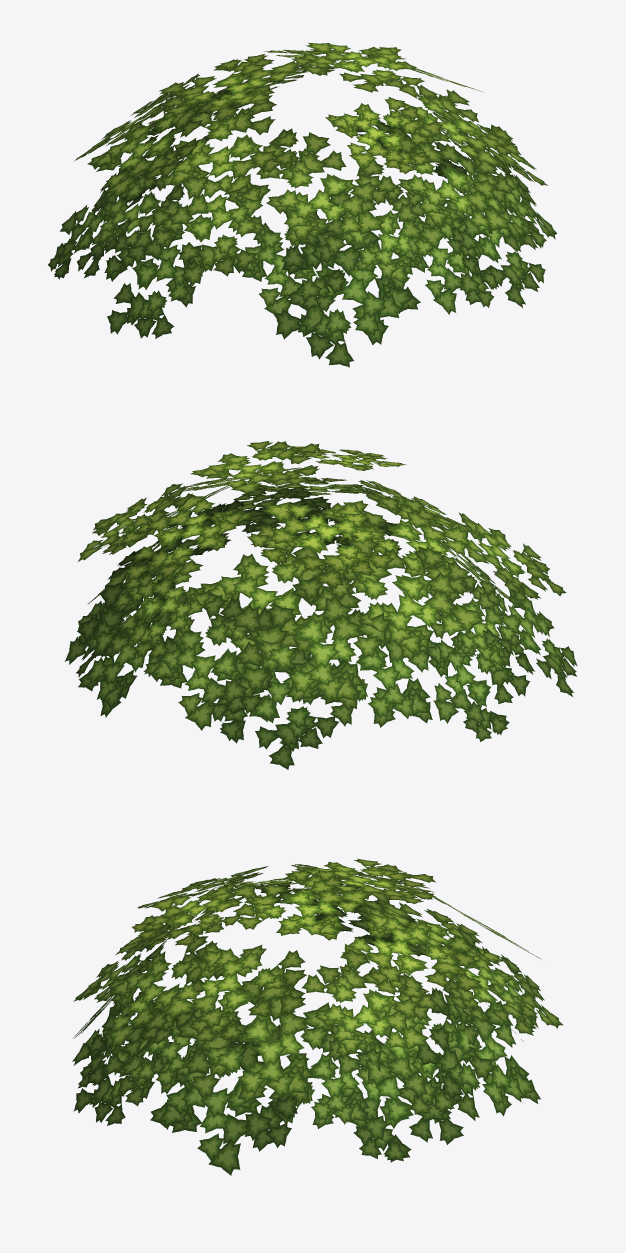
Rendered from clover_a.glb.
3 views of the same model, one above another, from view 1: azimuth 30°, elevation 25°; view 2: azimuth 150°, elevation 25°; view 3: azimuth 270°, elevation 25° (orthographic). The views are drawn at different scales.
Parts seen in each view (by area): view 1: clover_a; view 2: clover_a; view 3: clover_a.
Boxes of the visible parts, x1=… form: clover_a: x1=48, y1=42, x2=556, y2=367; clover_a: x1=64, y1=441, x2=577, y2=769; clover_a: x1=72, y1=858, x2=563, y2=1175.
Size of the model in its own units: 2.05 by 0.9482 by 1.99.
1 material, 1 textured.
